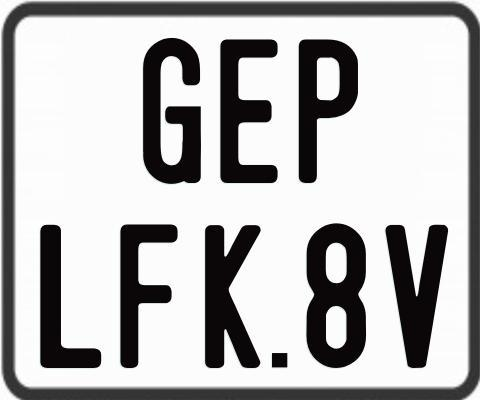8: (303, 223, 366, 368)
E: (218, 37, 281, 186)
F: (118, 224, 180, 374)
G: (143, 35, 201, 183)
K: (204, 225, 266, 368)
L: (39, 224, 104, 373)
P: (299, 39, 358, 186)
V: (382, 225, 448, 373)
